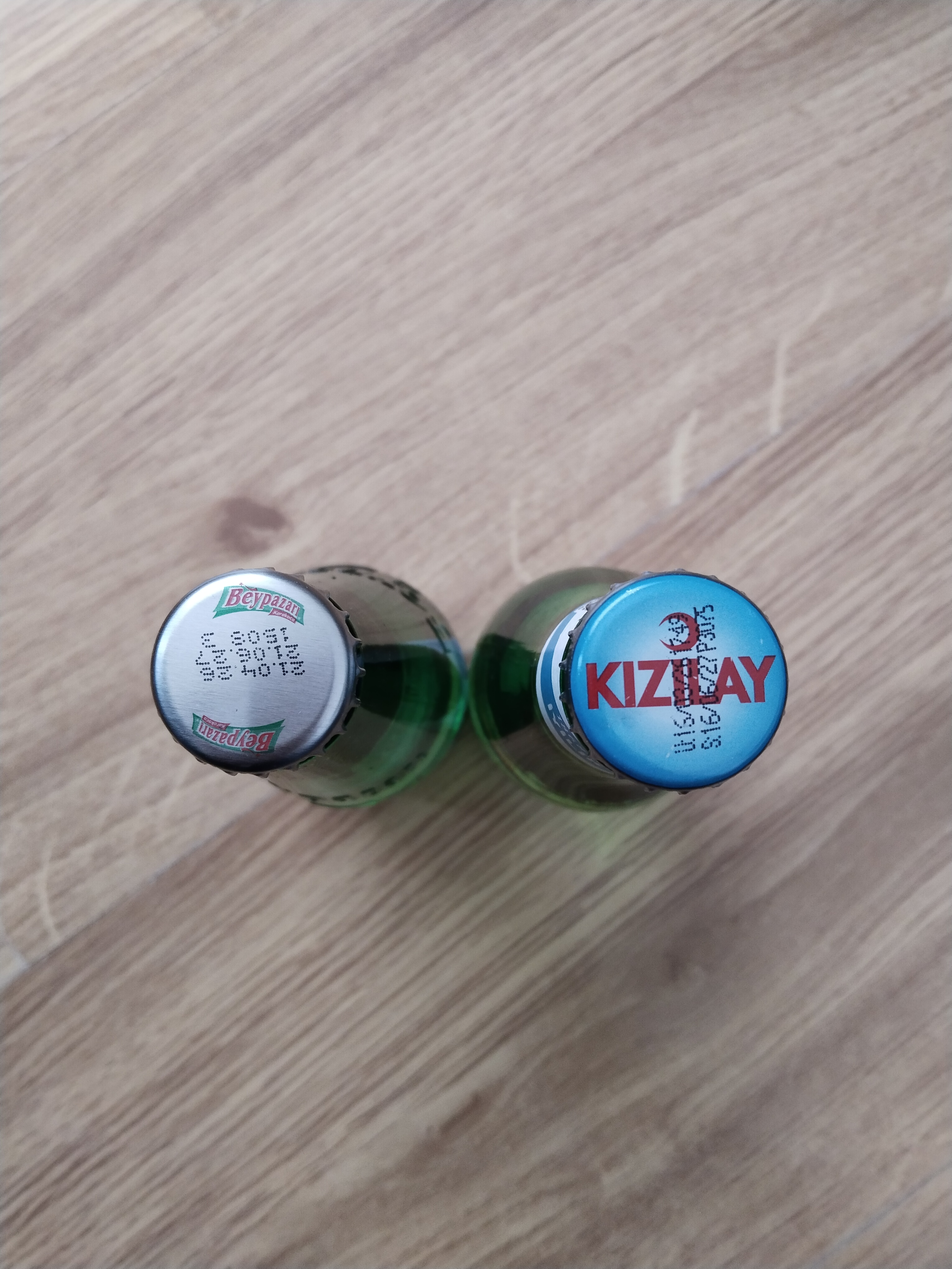beypazari_maden_suyu: (151, 559, 469, 812)
eti_hosbes_gofret: (469, 558, 788, 819)
